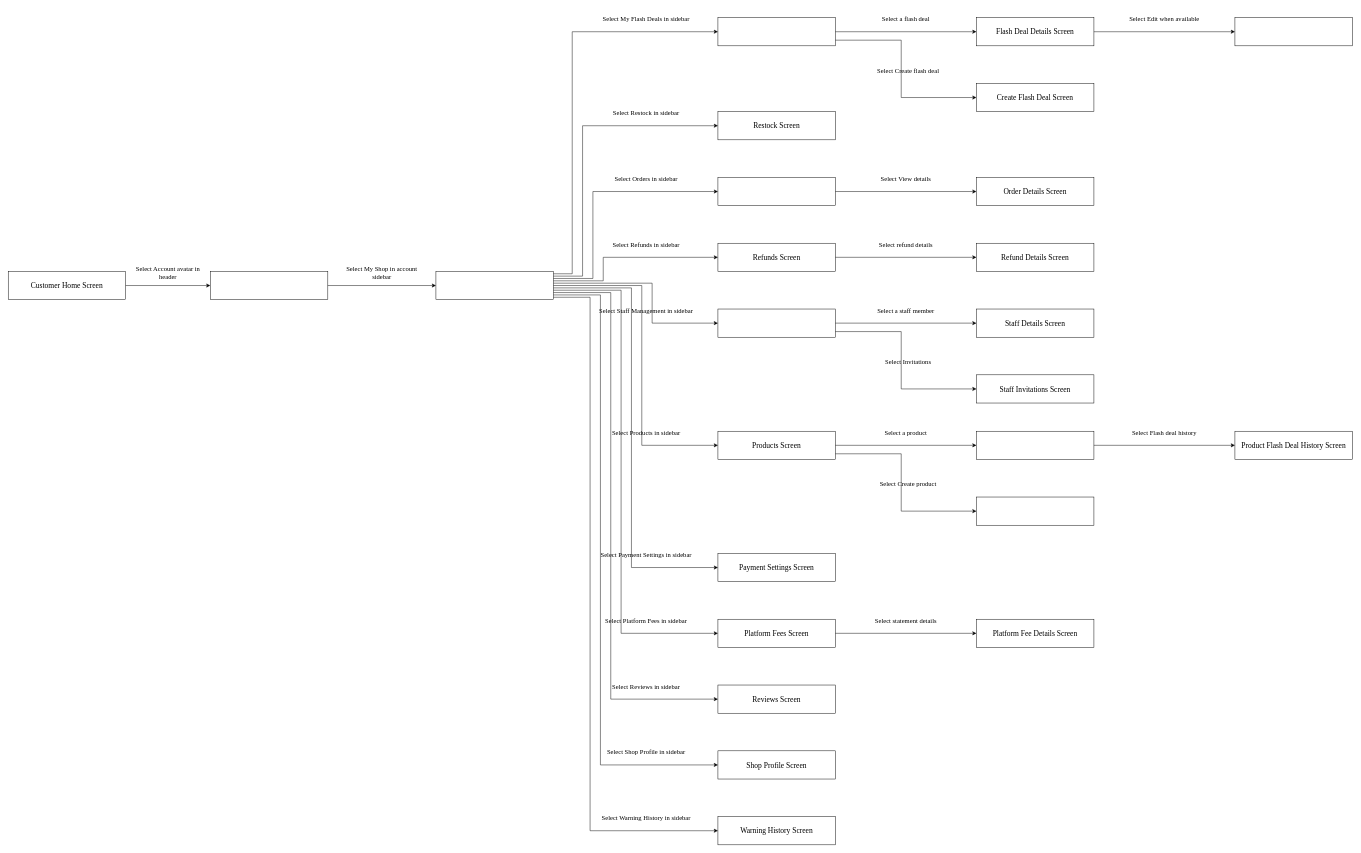
This 1361x853 diagram has some shape labels left out. Each missing label, with the centre of its shape:
"Create Product Screen" goes at point 1035,511.
"Edit Flash Deal Screen" goes at point 1293,31.
"Flash Deals Screen" goes at point 776,31.
"Orders Screen" goes at point 776,191.
"Product Details Screen" goes at point 1035,445.
"Profile Screen" goes at point 269,285.
"Staff Management Screen" goes at point 776,323.
"Store Overview Screen" goes at point 494,285.
